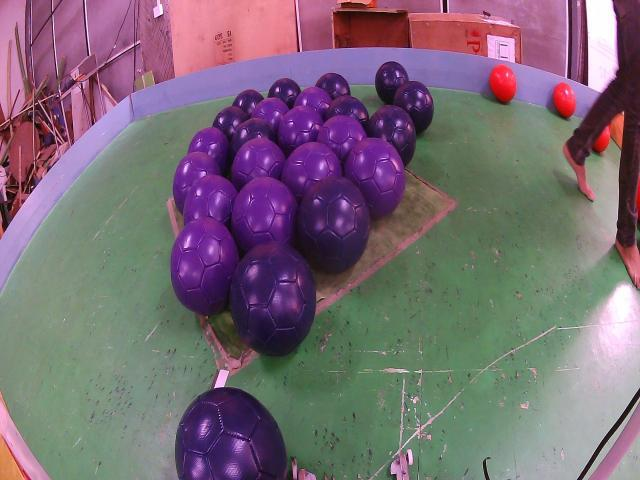jambhalya: (170, 217, 239, 316), (231, 177, 298, 253), (345, 137, 405, 220), (281, 142, 342, 203), (182, 175, 238, 229), (172, 152, 221, 213), (231, 138, 285, 190), (316, 115, 366, 165), (278, 105, 324, 158), (188, 127, 230, 177), (251, 97, 289, 133), (294, 87, 332, 120)
kaalyya: (175, 388, 288, 480), (231, 242, 318, 355), (298, 177, 370, 273), (366, 105, 416, 165), (392, 80, 432, 133), (230, 118, 276, 161), (375, 62, 409, 105), (328, 95, 369, 128), (212, 105, 248, 142), (268, 78, 301, 108), (232, 88, 264, 117), (316, 73, 350, 100)
